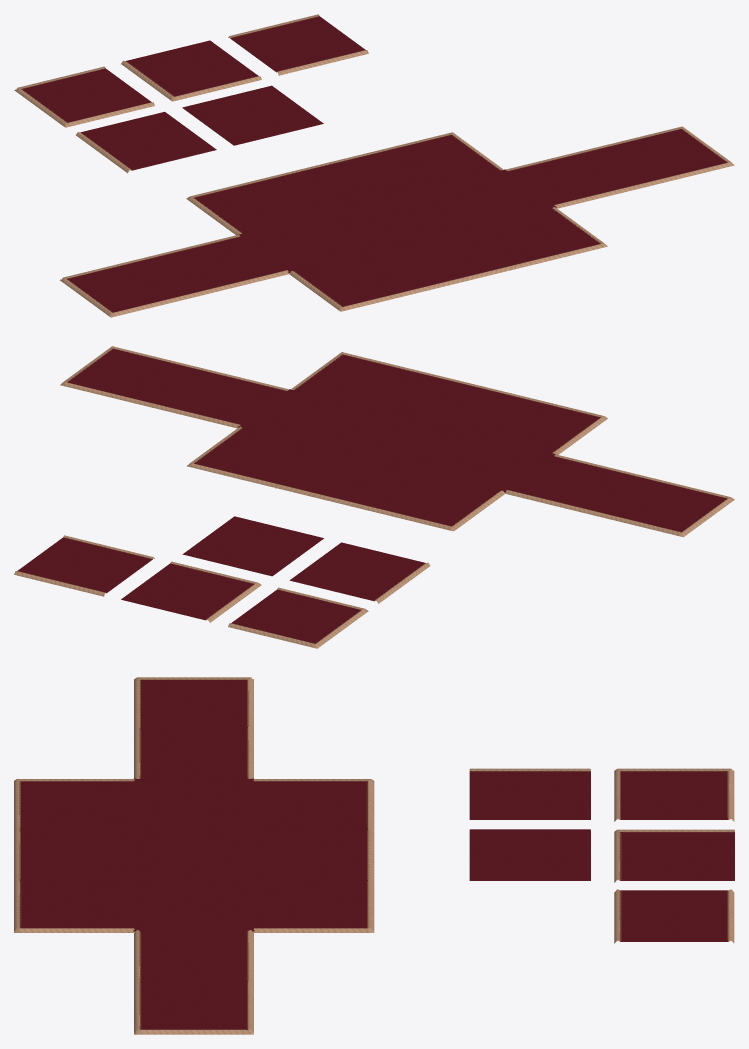
Rendered from RedCarpet.fbx.
3 renders of one model, top to bottom at view 1: azimuth 30°, elevation 25°; view 2: azimuth 150°, elevation 25°; view 3: azimuth 270°, elevation 25°, orthographic. The views are drawn at different scales.
Visible parts, largest first — view 1: Carpet_02.001_6, Carpet_02_3, Carpet_04_2, Carpet_04.001_5, Carpet_03_4, Carpet_01.001_9, Carpet_01_1, Carpet_03.001_8, Carpet_03.002_16, Carpet_00_0, Carpet_02.002_10, Carpet_04.002_17 (+6 smaller); view 2: Carpet_02.003_13, Carpet_04_2, Carpet_04.001_5, Carpet_03_4, Carpet_01.002_14, Carpet_01_1, Carpet_03.001_8, Carpet_03.002_16, Carpet_02_3, Carpet_00_0, Carpet_02.004_15, Carpet_04.002_17 (+6 smaller); view 3: Carpet_04.002_17, Carpet_02.004_15, Carpet_02.002_10, Carpet_00_0, Carpet_01_1, Carpet_03_4, Carpet_02_3, Carpet_01.002_14, Carpet_04_2, Carpet_00.002_11, Carpet_00.001_7, Carpet_01.001_9 (+6 smaller).
Boxes of the visible parts, x1,y1,x2,y2 form: Carpet_02.001_6: (289, 250, 429, 311); Carpet_02_3: (121, 40, 261, 101); Carpet_04_2: (14, 66, 154, 127); Carpet_04.001_5: (60, 256, 199, 317); Carpet_03_4: (228, 14, 368, 75); Carpet_01.001_9: (378, 229, 518, 289); Carpet_01_1: (76, 111, 216, 173); Carpet_03.001_8: (150, 234, 289, 296); Carpet_03.002_16: (506, 147, 645, 208); Carpet_00_0: (182, 85, 323, 145); Carpet_02.002_10: (468, 207, 607, 268); Carpet_04.002_17: (596, 126, 734, 187); Carpet_02.003_13: (365, 470, 505, 531); Carpet_04_2: (228, 587, 368, 648); Carpet_04.001_5: (594, 476, 734, 537); Carpet_03_4: (14, 535, 154, 596); Carpet_01.002_14: (276, 448, 415, 509); Carpet_01_1: (289, 542, 430, 603); Carpet_03.001_8: (505, 454, 644, 515); Carpet_03.002_16: (149, 367, 288, 428); Carpet_02_3: (121, 561, 261, 622); Carpet_00_0: (182, 516, 323, 576); Carpet_02.004_15: (187, 426, 326, 488); Carpet_04.002_17: (60, 346, 198, 406); Carpet_04.002_17: (134, 980, 253, 1034); Carpet_02.004_15: (253, 879, 374, 932); Carpet_02.002_10: (14, 879, 134, 932); Carpet_00_0: (469, 829, 590, 880); Carpet_01_1: (469, 768, 590, 819); Carpet_03_4: (614, 889, 734, 943); Carpet_02_3: (614, 829, 734, 882); Carpet_01.002_14: (254, 828, 374, 881); Carpet_04_2: (614, 768, 734, 821); Carpet_00.002_11: (134, 829, 253, 880); Carpet_00.001_7: (134, 778, 253, 829); Carpet_01.001_9: (14, 828, 133, 881).
Bounding box in the file's own units: 700 × 3.5 × 601.
1 material, 1 textured.
